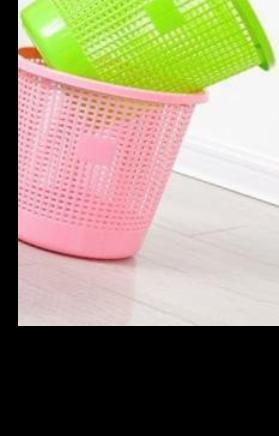Bote de Basura: (0, 42, 218, 259), (16, 0, 279, 126)
